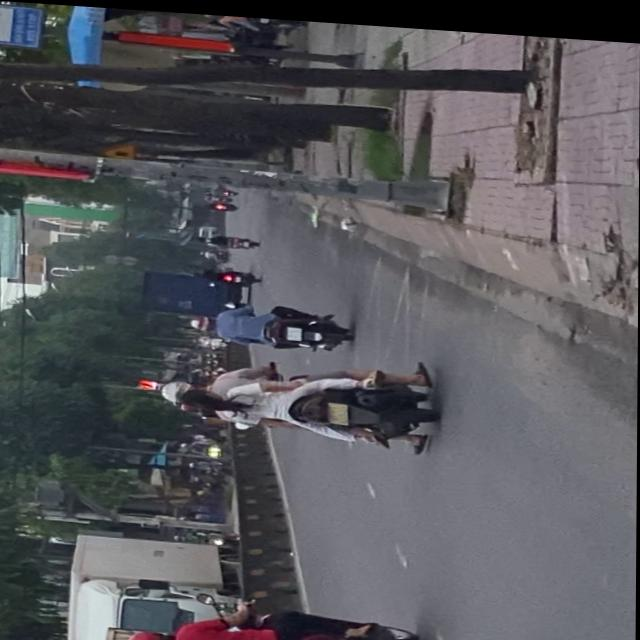helmet: (161, 377, 191, 402), (126, 627, 174, 640)
licenseplate: (158, 347, 442, 448), (126, 597, 431, 640)
motorcyclist: (178, 384, 224, 412)
nohelmet: (328, 398, 348, 419)
